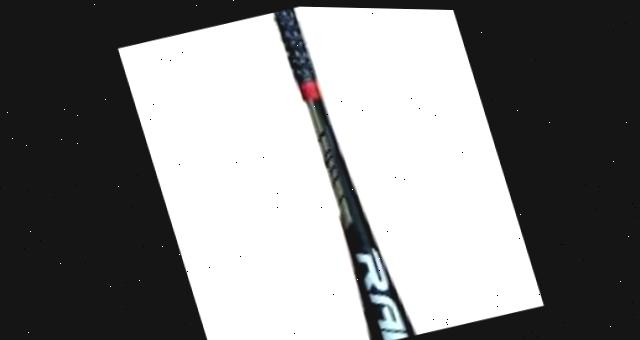baseball bat: (259, 5, 427, 340)
